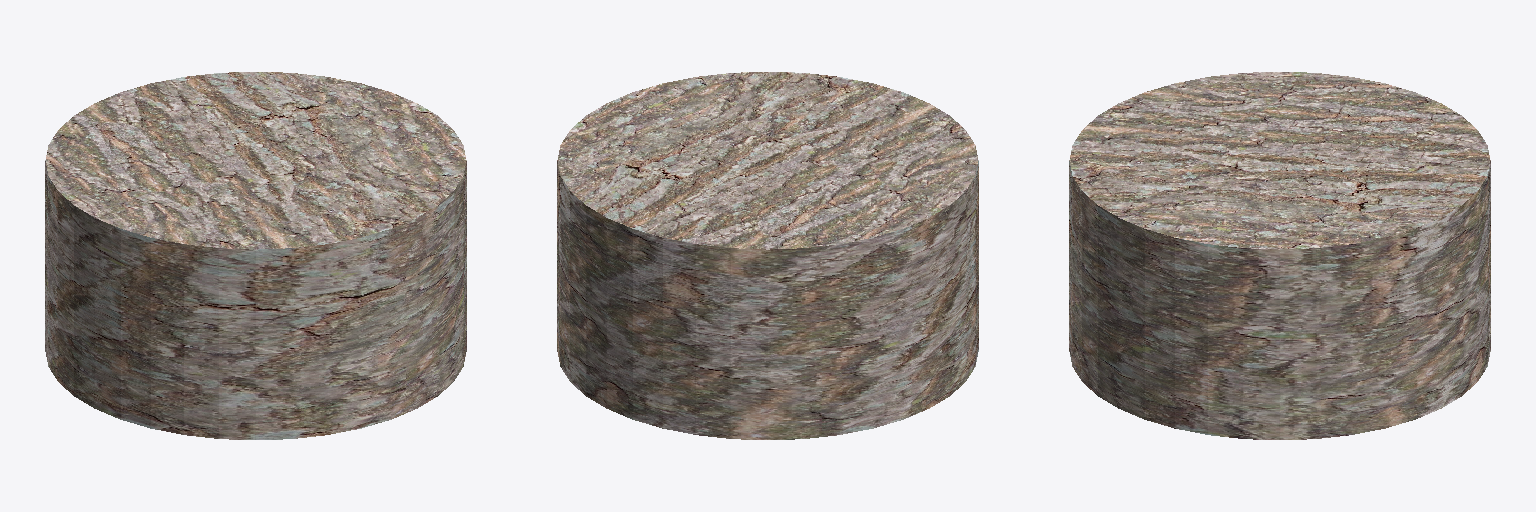
3 renders of one model, left to right at view 1: azimuth 30°, elevation 25°; view 2: azimuth 150°, elevation 25°; view 3: azimuth 270°, elevation 25°, orthographic.
Visible parts, largest first — view 1: Zylinder; view 2: Zylinder; view 3: Zylinder.
Boxes of the visible parts, x1=… form: Zylinder: x1=45, y1=72, x2=466, y2=439; Zylinder: x1=557, y1=72, x2=978, y2=439; Zylinder: x1=1069, y1=72, x2=1490, y2=439.
Bounding box in the file's own units: 2 × 1 × 2.
Materials: 1 (1 with a texture image).